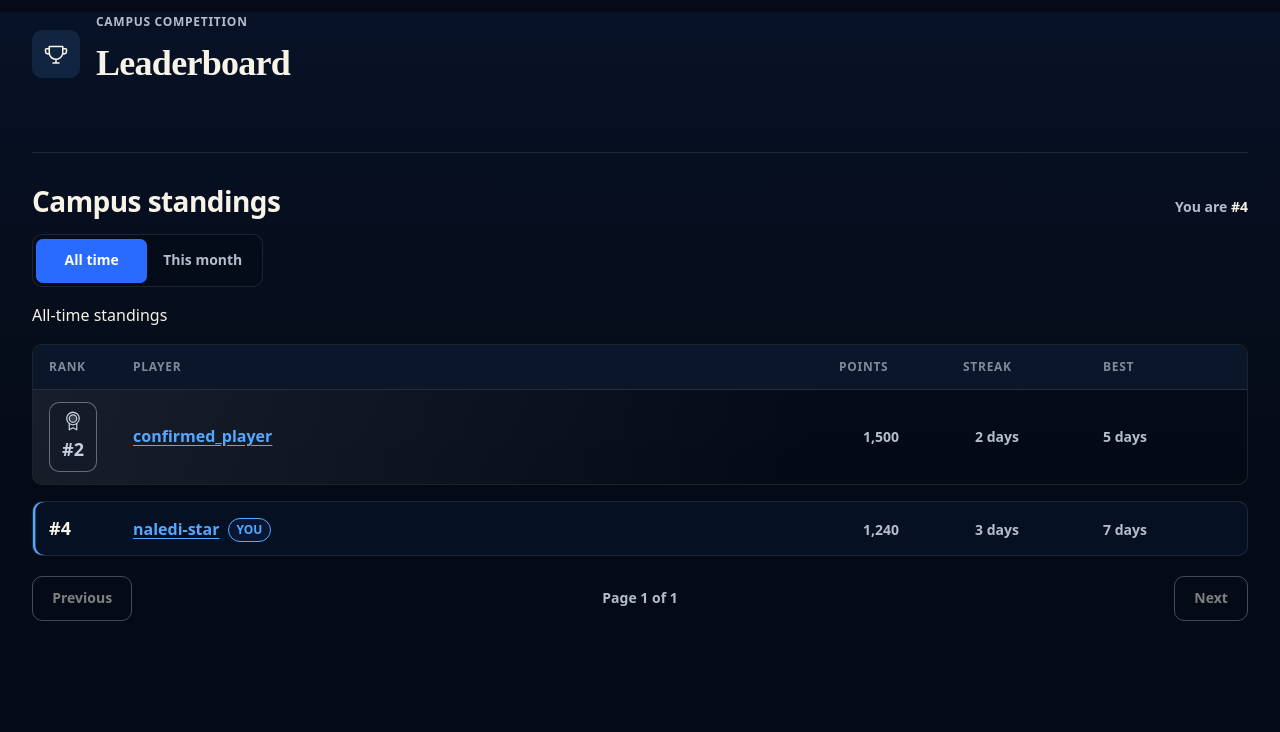
Test: retained standings refreshes › keeps the previous standings while filters race and ignores the late cancelled result
This screenshot has width=1280, height=732.
Expected: the link "confirmed_player" is shown, top-left (133, 425), bottom-right (272, 447)
Click the button "This month". click: {"x": 203, "y": 261}
box: top-left (147, 239), bottom-right (258, 283)
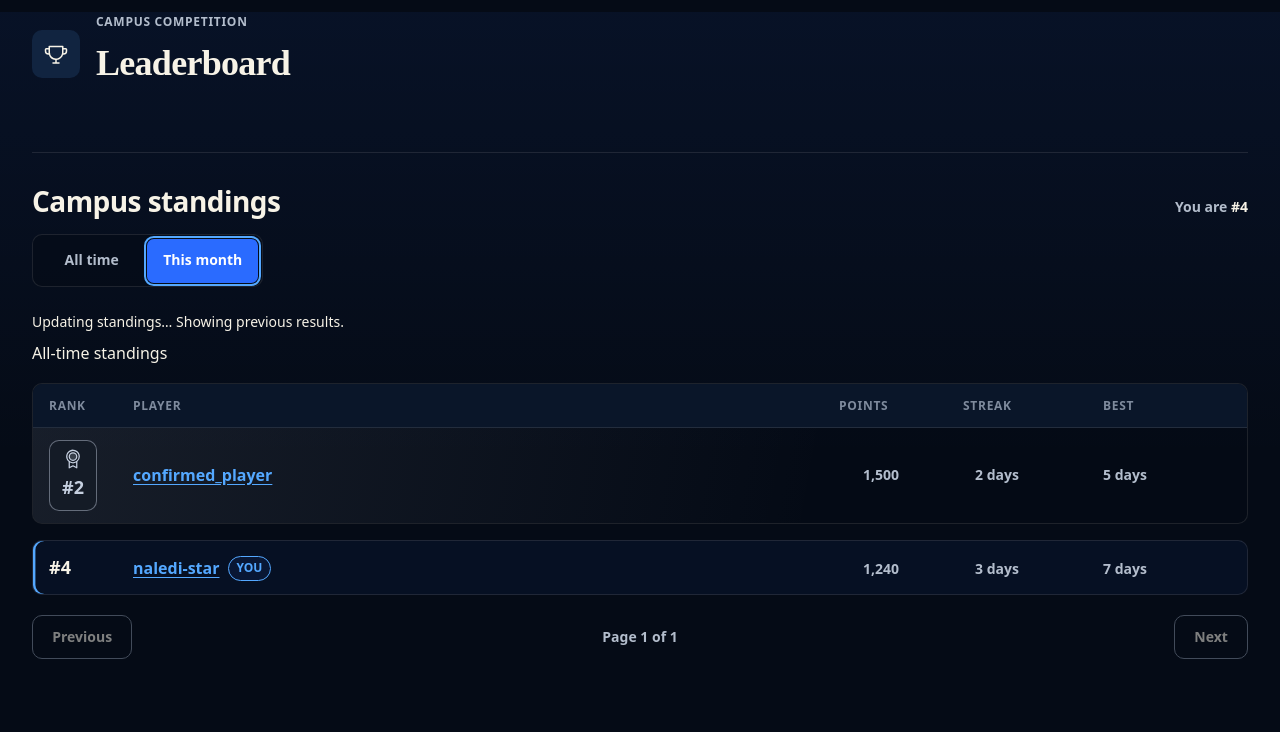
Expected: the link "confirmed_player" is shown, top-left (133, 464), bottom-right (272, 486)
Result: the text "Updating standings… Showing previous results." is shown at top-left (32, 311), bottom-right (344, 333)
Click the button "All time". click: {"x": 92, "y": 261}
box: top-left (36, 239), bottom-right (147, 283)
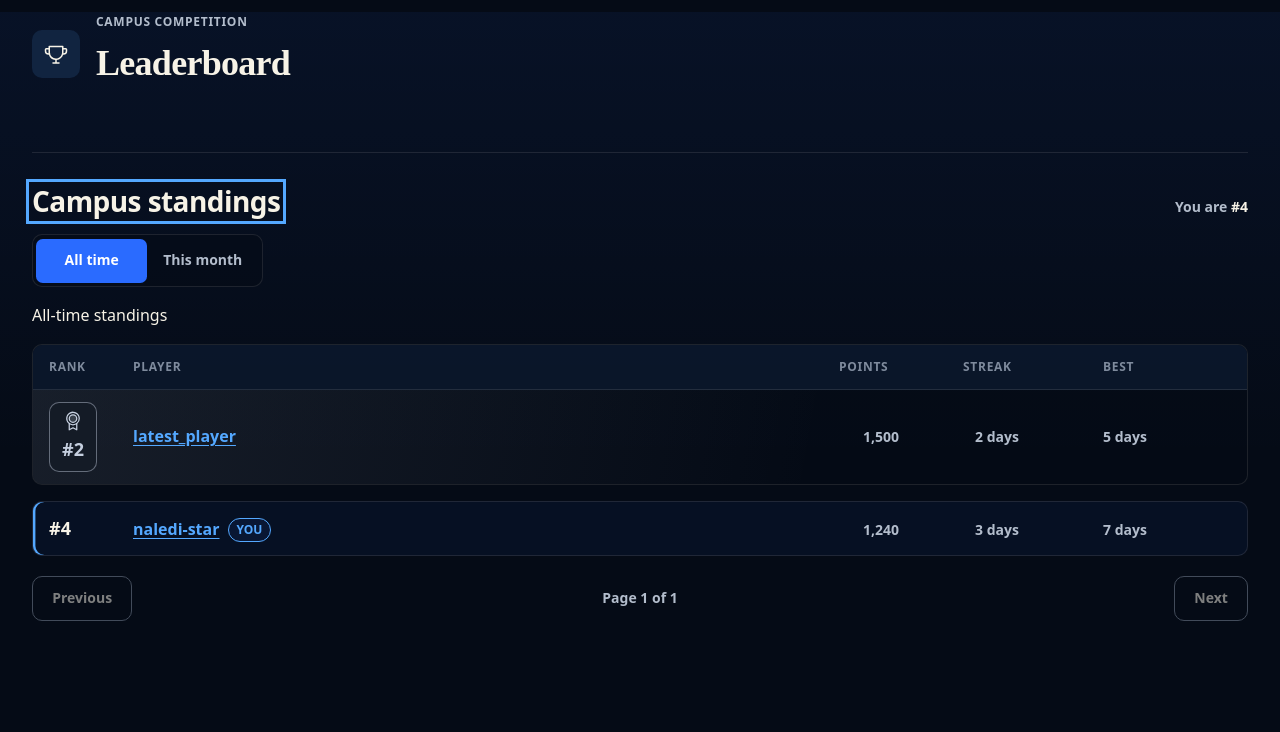
Result: the link "latest_player" is shown at top-left (133, 425), bottom-right (236, 447)
